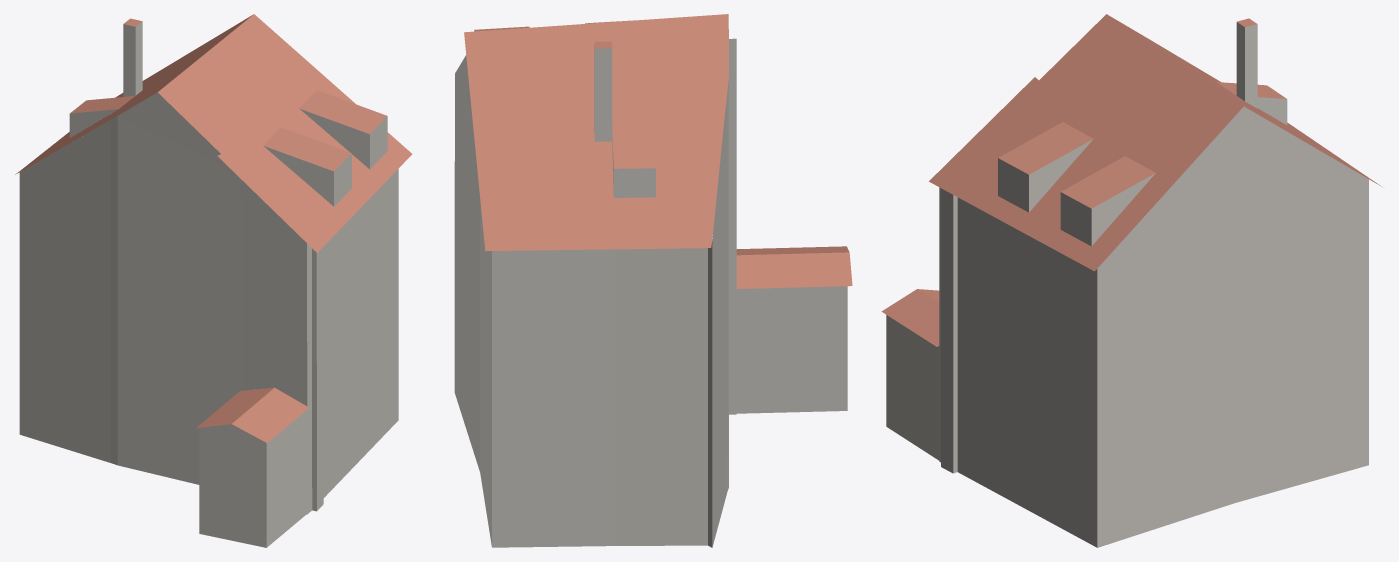
3 renders of one model, left to right at view 1: azimuth 30°, elevation 25°; view 2: azimuth 150°, elevation 25°; view 3: azimuth 270°, elevation 25°, orthographic. The views are drawn at different scales.
Parts seen in each view (by area): view 1: swisstopo:swissbuildings3d:46b25eeb-4ed4-4df0-b43c-0bc9ccdd9; view 2: swisstopo:swissbuildings3d:46b25eeb-4ed4-4df0-b43c-0bc9ccdd9; view 3: swisstopo:swissbuildings3d:46b25eeb-4ed4-4df0-b43c-0bc9ccdd9.
Part boxes in pixels (x1=…): swisstopo:swissbuildings3d:46b25eeb-4ed4-4df0-b43c-0bc9ccdd9: x1=15, y1=14, x2=412, y2=547; swisstopo:swissbuildings3d:46b25eeb-4ed4-4df0-b43c-0bc9ccdd9: x1=454, y1=14, x2=852, y2=547; swisstopo:swissbuildings3d:46b25eeb-4ed4-4df0-b43c-0bc9ccdd9: x1=881, y1=14, x2=1381, y2=547.
Bounding box in the file's own units: 17.63 × 21.19 × 22.86.
